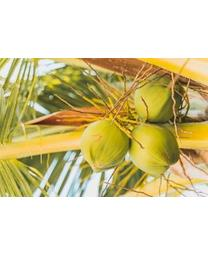coconut: (129, 124, 181, 175), (82, 117, 128, 173), (134, 82, 176, 124)
